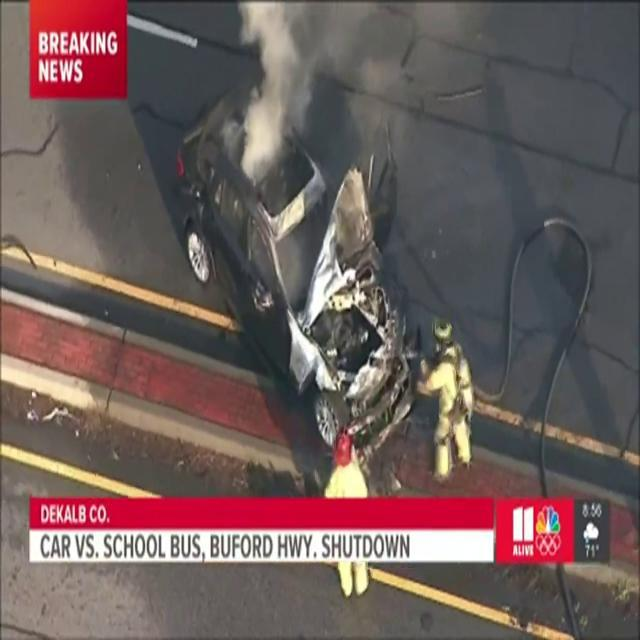Smoke: (231, 1, 395, 182)
